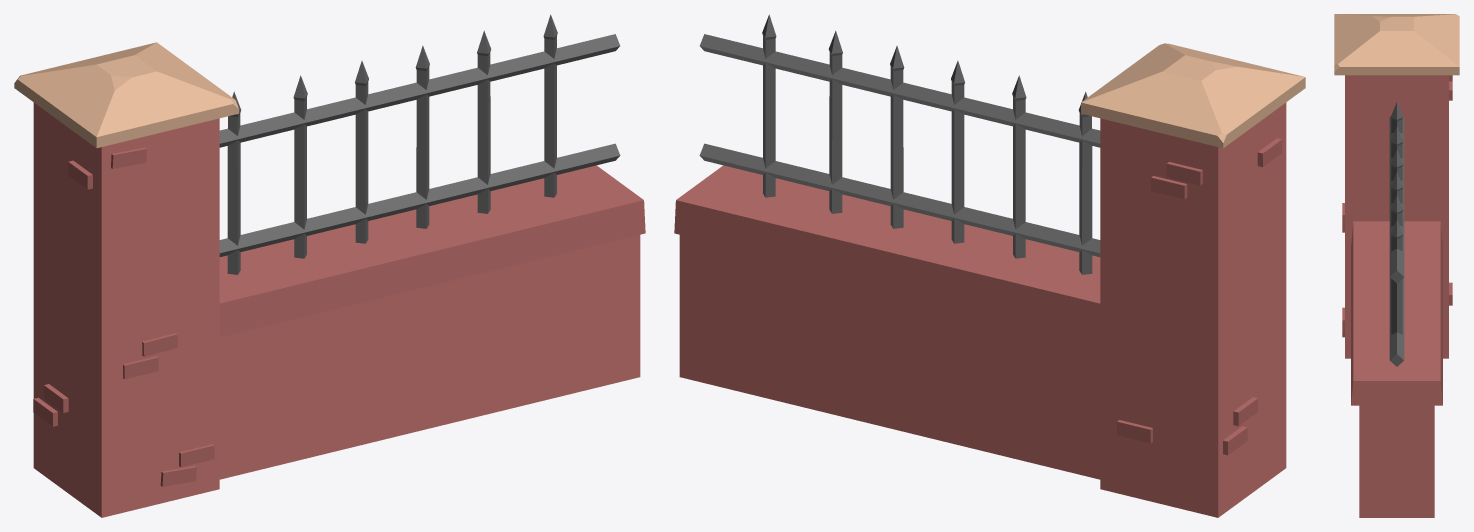
The model's file is Fence Piece.glb.
3 views of the same model, side by side, from view 1: azimuth 30°, elevation 25°; view 2: azimuth 150°, elevation 25°; view 3: azimuth 270°, elevation 25° (orthographic). The views are drawn at different scales.
Visible parts, largest first — view 1: FencePiece; view 2: FencePiece; view 3: FencePiece.
Boxes of the visible parts, box(x1,y1,x2,y2) form: FencePiece: box(14, 14, 645, 517); FencePiece: box(674, 14, 1305, 517); FencePiece: box(1334, 14, 1459, 517).
Bounding box in the file's own units: 1.12 × 0.7876 × 0.286.
